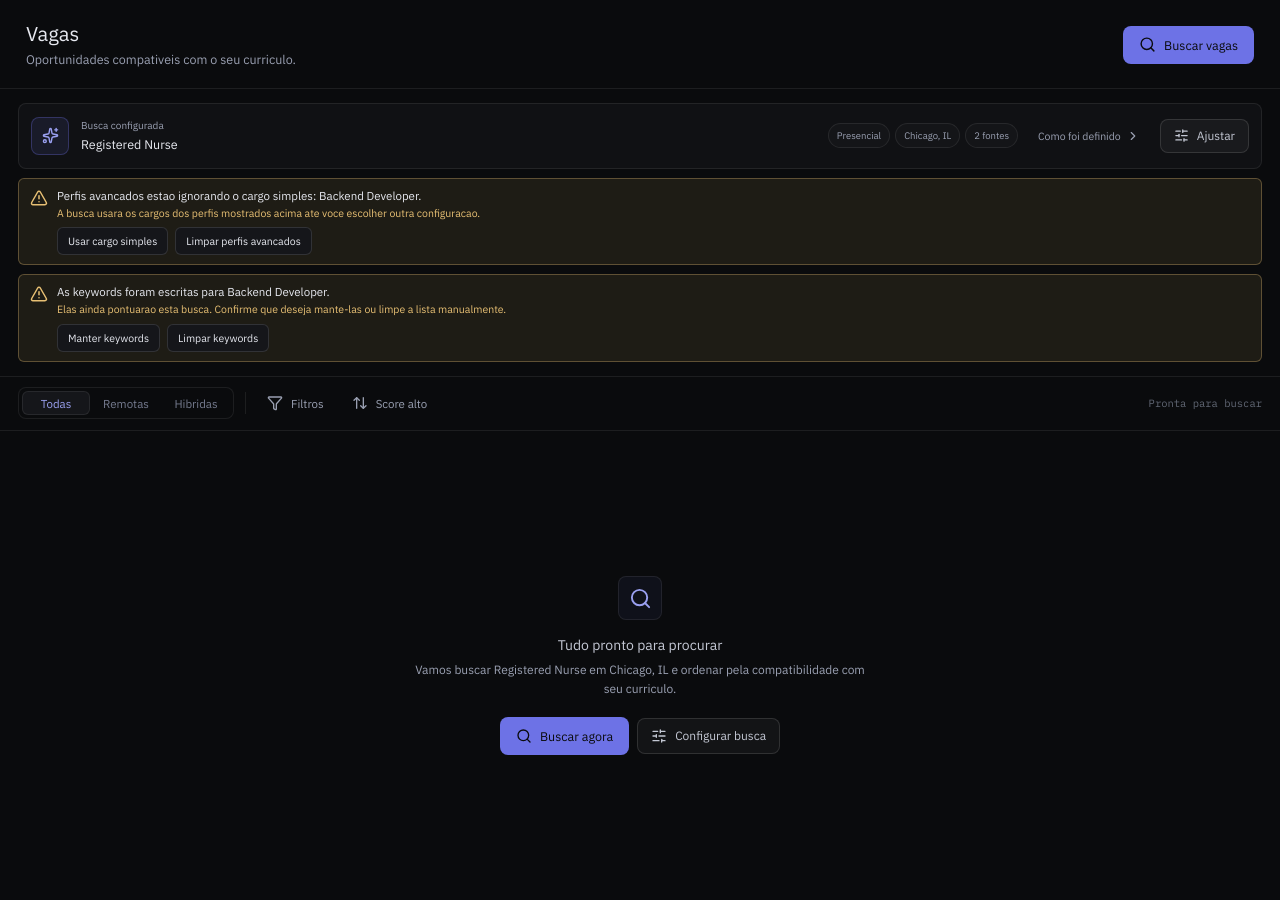
Test case: SearchView effective search plan › shows the actual roles, location, sources, and both persistent conflicts before search
Check: the text "Registered Nurse" is shown, box top-left (81, 136), bottom-right (178, 152)
Click the button "Como foi definido": click(1089, 136) top-left (1030, 118), bottom-right (1148, 152)
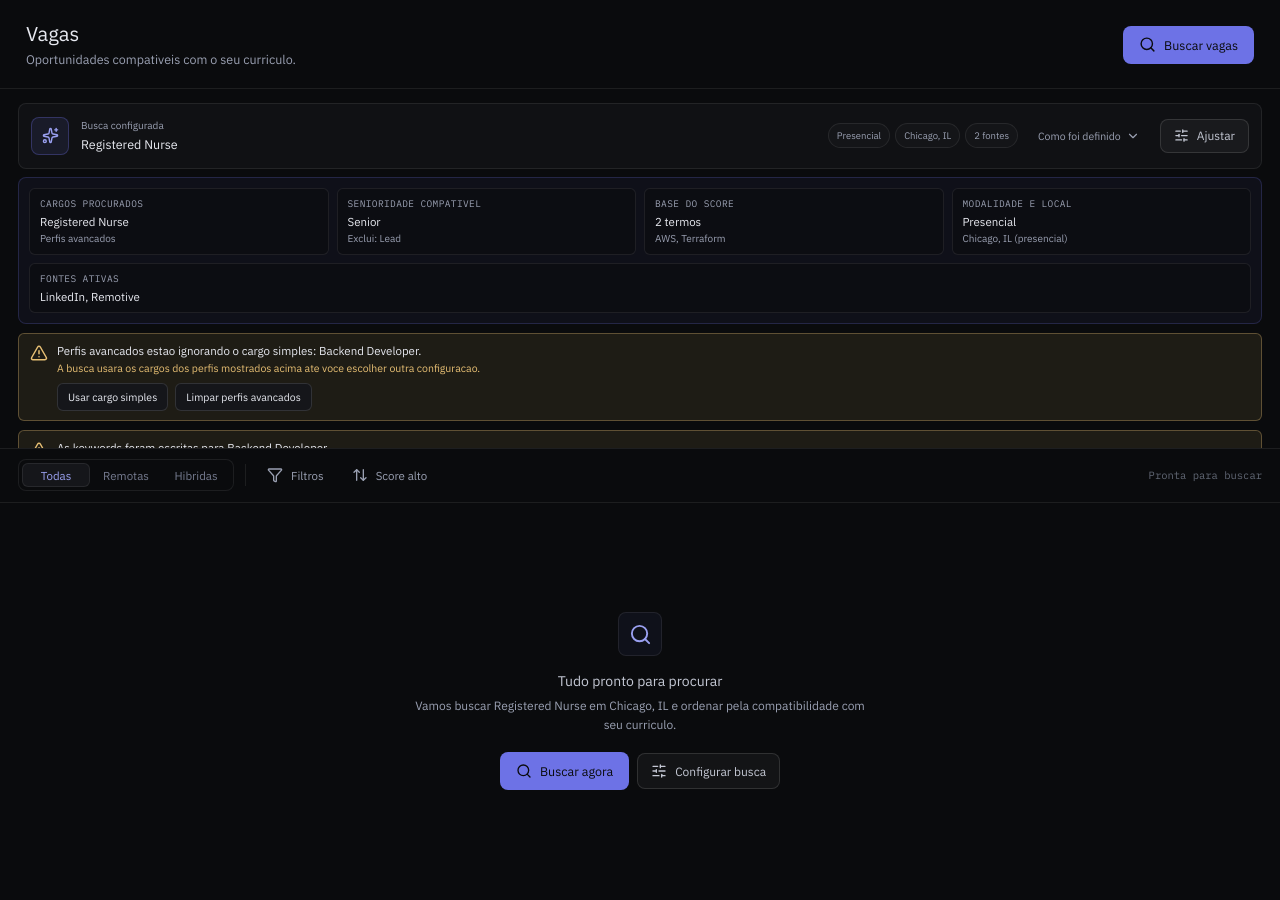
Check: the button "Como foi definido" is expanded, box top-left (1030, 118), bottom-right (1148, 152)
Check: the text "Chicago, IL (presencial)" is shown, box top-left (962, 232), bottom-right (1068, 245)
Check: the text "LinkedIn, Remotive" is shown, box top-left (40, 288), bottom-right (140, 304)
